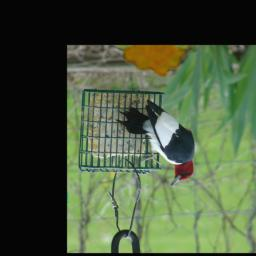Woodpecker: (115, 99, 195, 186)
